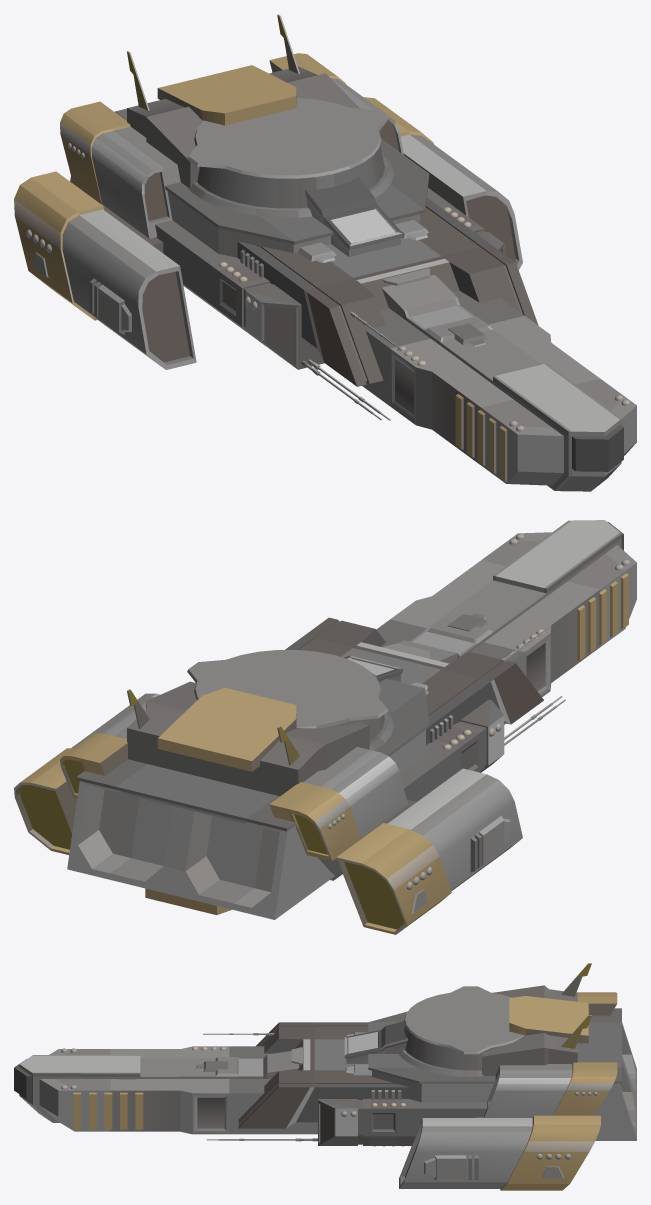
The model's file is insurgent.glb.
3 views of the same model, one above another, from view 1: azimuth 30°, elevation 25°; view 2: azimuth 150°, elevation 25°; view 3: azimuth 270°, elevation 25° (orthographic). The views are drawn at different scales.
Visible parts, largest first — view 1: Insurgent; view 2: Insurgent; view 3: Insurgent.
Boxes of the visible parts, left/top/right/bottom form: Insurgent: left=14, top=14, right=636, bottom=491; Insurgent: left=14, top=520, right=636, bottom=934; Insurgent: left=14, top=963, right=636, bottom=1190.
Size of the model in its own units: 5.57 by 2.87 by 10.95.
